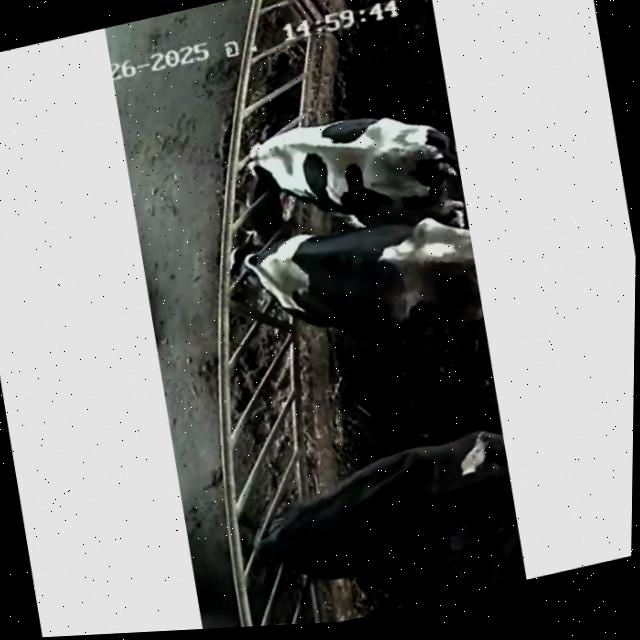eat: (187, 198, 361, 337), (192, 105, 332, 223), (205, 489, 334, 604)
